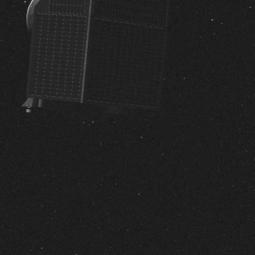cheops: (1, 0, 177, 122)
